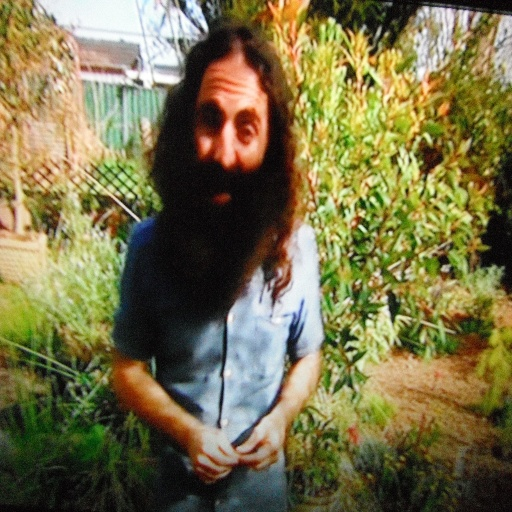hand: (230, 397, 292, 486), (185, 424, 239, 486)
